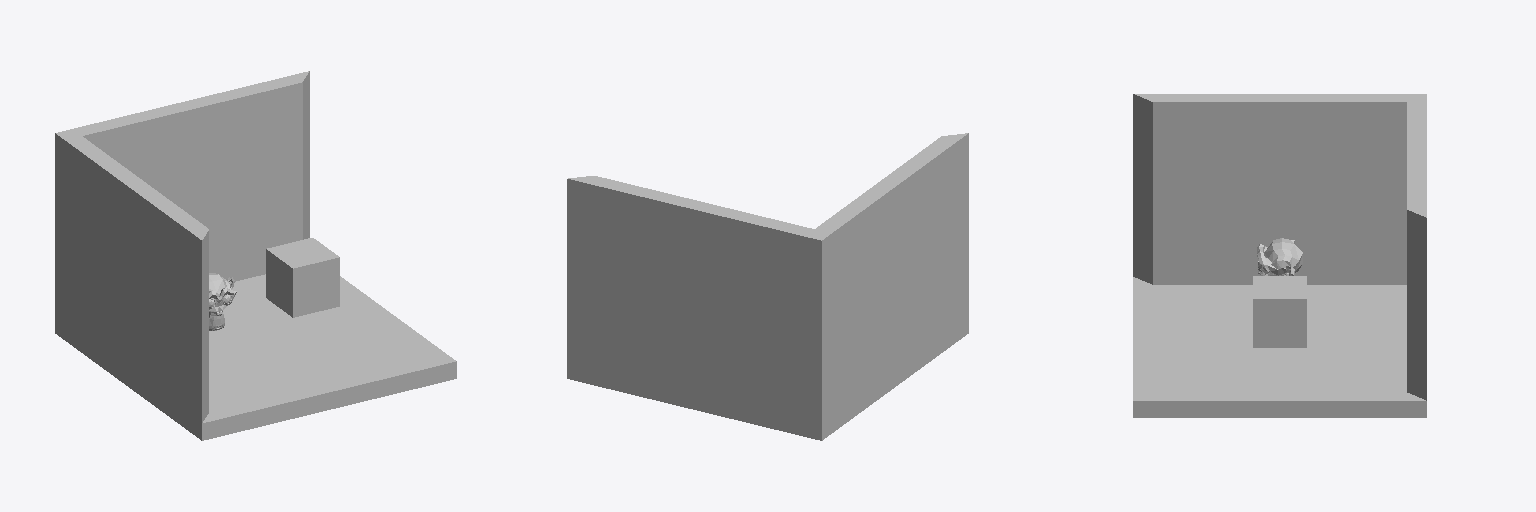
File: opengl_render_testing.obj
3 renders of one model, left to right at view 1: azimuth 30°, elevation 25°; view 2: azimuth 150°, elevation 25°; view 3: azimuth 270°, elevation 25°, orthographic.
Parts seen in each view (by area): view 1: Cube.001, Cube, Suzanne; view 2: Cube.001; view 3: Cube.001, Cube, Suzanne.
Part boxes in pixels (x1,y1,x2,y2): Cube.001: (55, 71, 456, 440); Cube: (266, 238, 339, 317); Suzanne: (209, 273, 236, 330); Cube.001: (567, 133, 968, 440); Cube.001: (1133, 94, 1426, 417); Cube: (1253, 276, 1306, 347); Suzanne: (1257, 238, 1302, 275).
Bounding box in the file's own units: 10.84 × 8.14 × 10.84.